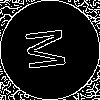M: (25, 25, 75, 72)
